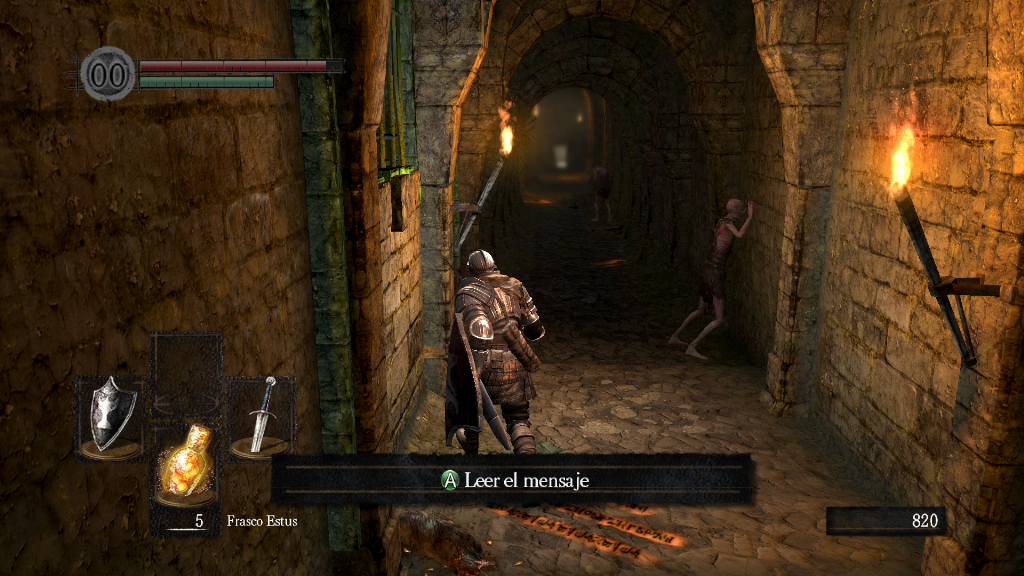dialogBox: (271, 455, 753, 504)
health: (138, 58, 343, 71)
hollow: (670, 197, 751, 361), (589, 164, 615, 224)
humanity: (80, 45, 136, 102)
player: (444, 249, 549, 453)
souls: (825, 506, 945, 536)
stamina: (138, 74, 274, 88)
